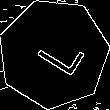L_NW: (24, 27, 84, 80)
